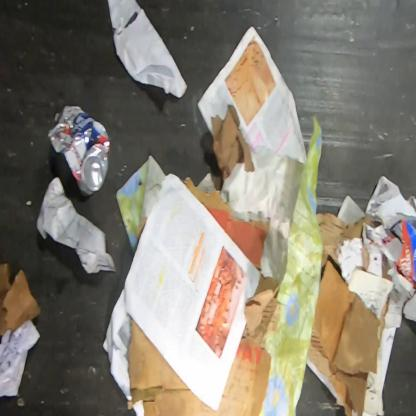cardboard: (127, 276, 281, 416), (313, 259, 392, 415), (181, 176, 270, 276), (316, 212, 384, 286), (307, 329, 331, 383), (382, 264, 392, 280)
metal: (46, 105, 111, 198)
